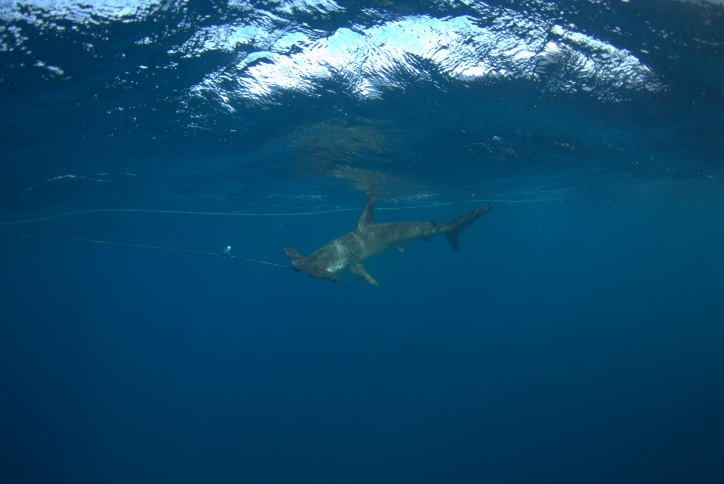Hammer: (211, 208, 578, 373)
